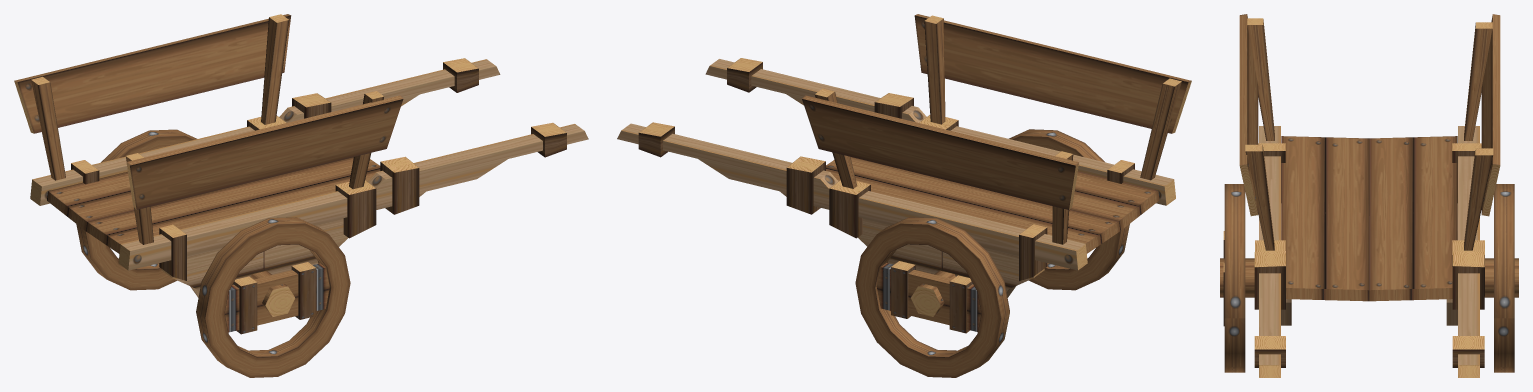
File: Chariot_01.FBX
3 renders of one model, left to right at view 1: azimuth 30°, elevation 25°; view 2: azimuth 150°, elevation 25°; view 3: azimuth 270°, elevation 25°, orthographic. The views are drawn at different scales.
Parts seen in each view (by area): view 1: Body, Wheel; view 2: Body, Wheel; view 3: Body, Wheel.
Part boxes in pixels (box(x1,y1,x2,y2)): Body: box(14, 14, 588, 297); Wheel: box(76, 129, 350, 377); Body: box(617, 14, 1191, 297); Wheel: box(855, 129, 1129, 377); Body: box(1239, 14, 1500, 377); Wheel: box(1220, 184, 1518, 372).
Bounding box in the file's own units: 3.9 × 1.96 × 1.92.
